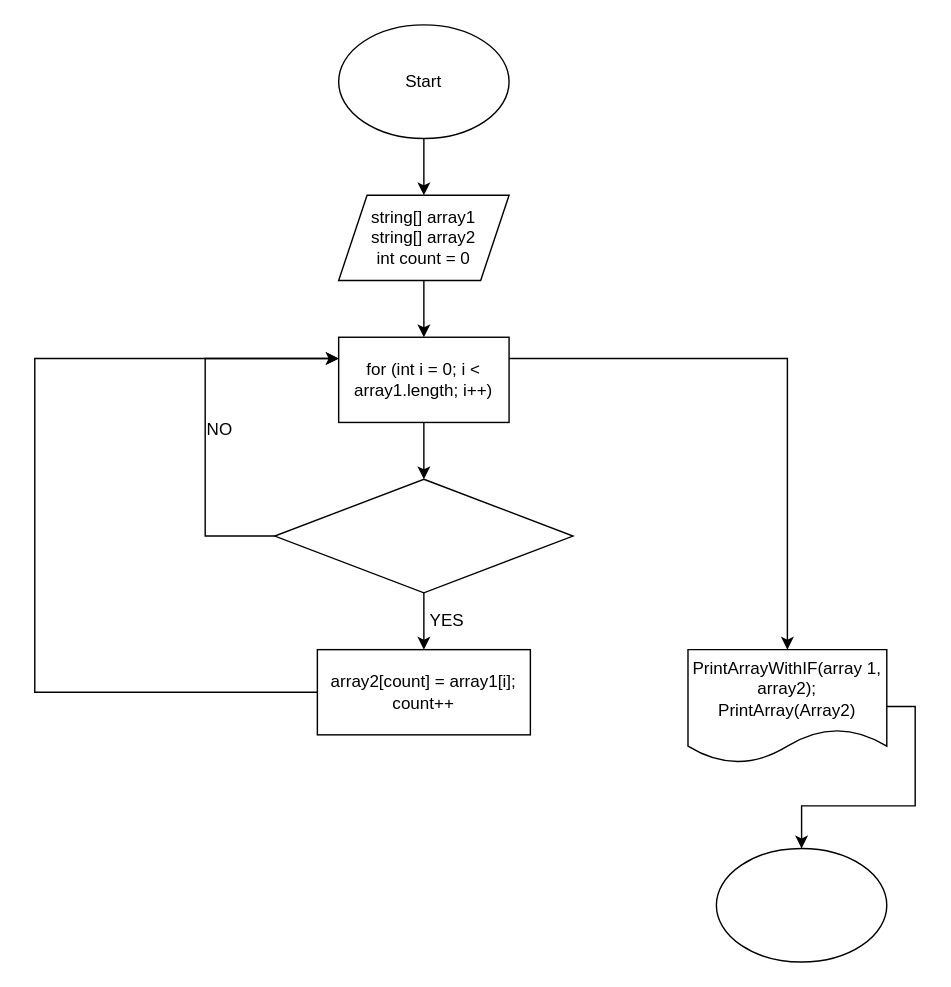
The diagram is 951 pixels wide and 987 high, and some of its shapes have lost their labels. The centre of each missing label's shape, as x and y in pixels:
"End" goes at pixel 801 904.
"if {array1[i].length <= 3)" goes at pixel 423 535.
